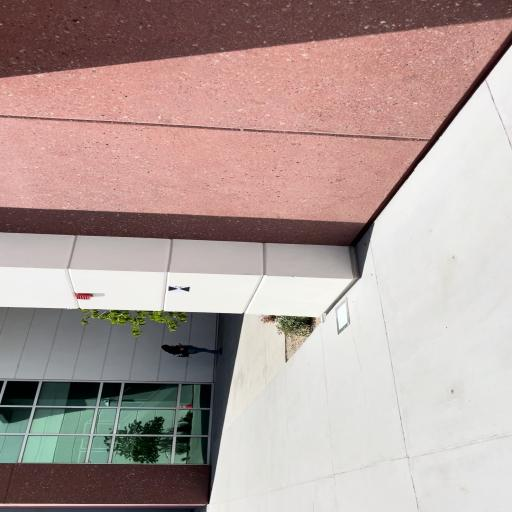target2: (168, 285, 189, 292)
